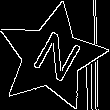N_SW: (21, 25, 82, 89)
